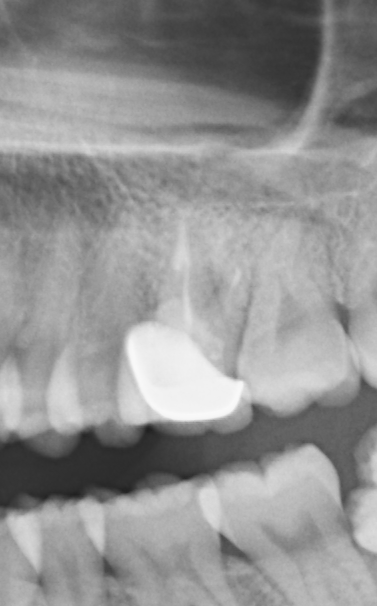fracture: (173, 226, 187, 274)
